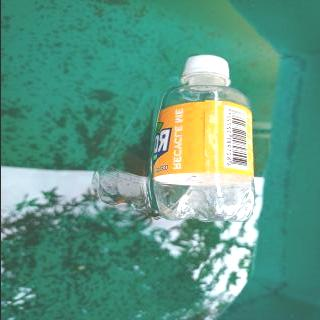bottle: (145, 52, 261, 226)
